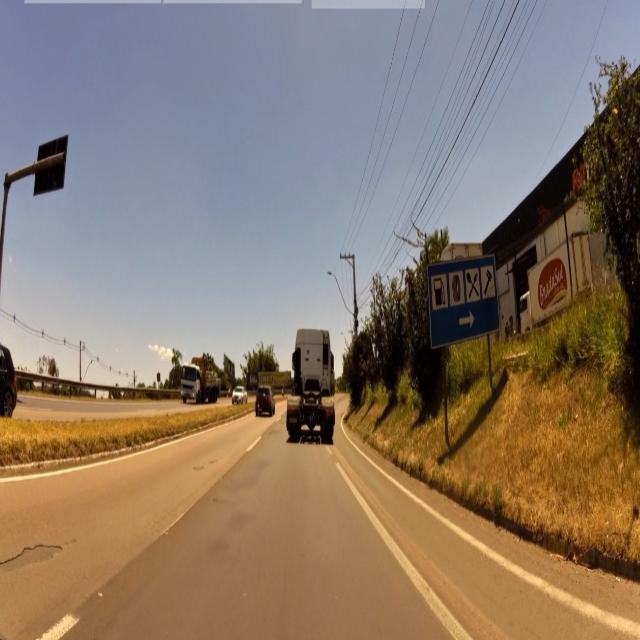LOC-6: (429, 256, 500, 343)
